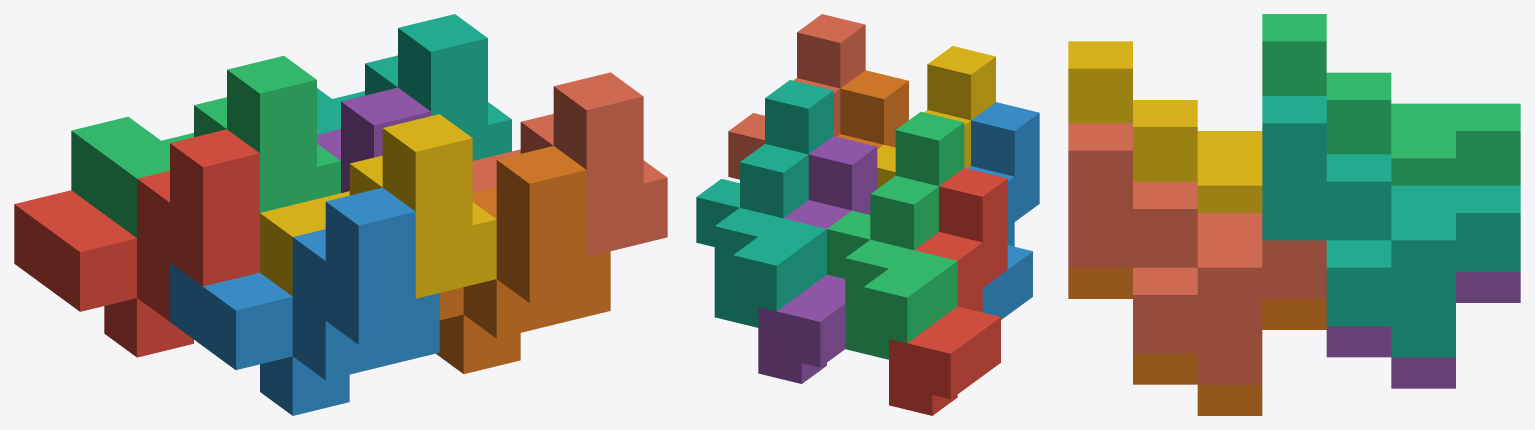
The model's file is tiling.obj.
3 renders of one model, left to right at view 1: azimuth 30°, elevation 25°; view 2: azimuth 150°, elevation 25°; view 3: azimuth 270°, elevation 25°, orthographic. The views are drawn at different scales.
Visible parts, largest first — view 1: copy_1_domain_2, copy_1_domain_1, copy_1_domain_6, copy_1_domain_3, copy_1_domain_4, copy_1_domain_8, copy_1_domain_7, copy_1_domain_5; view 2: copy_1_domain_7, copy_1_domain_3, copy_1_domain_1, copy_1_domain_5, copy_1_domain_2, copy_1_domain_8, copy_1_domain_4, copy_1_domain_6; view 3: copy_1_domain_7, copy_1_domain_8, copy_1_domain_3, copy_1_domain_4, copy_1_domain_6, copy_1_domain_5.
Part boxes in pixels (bbox=[...]): copy_1_domain_2: bbox=[170, 187, 439, 415]; copy_1_domain_1: bbox=[14, 129, 259, 357]; copy_1_domain_6: bbox=[436, 146, 610, 373]; copy_1_domain_3: bbox=[71, 56, 340, 237]; copy_1_domain_4: bbox=[260, 114, 496, 298]; copy_1_domain_8: bbox=[472, 72, 667, 256]; copy_1_domain_7: bbox=[317, 14, 511, 160]; copy_1_domain_5: bbox=[317, 87, 430, 192]; copy_1_domain_7: bbox=[696, 80, 833, 327]; copy_1_domain_3: bbox=[827, 112, 964, 359]; copy_1_domain_1: bbox=[889, 168, 1007, 415]; copy_1_domain_5: bbox=[758, 136, 877, 383]; copy_1_domain_2: bbox=[968, 102, 1039, 319]; copy_1_domain_8: bbox=[728, 14, 865, 179]; copy_1_domain_4: bbox=[877, 46, 995, 188]; copy_1_domain_6: bbox=[837, 70, 908, 149]; copy_1_domain_7: bbox=[1262, 96, 1520, 357]; copy_1_domain_8: bbox=[1068, 123, 1326, 384]; copy_1_domain_3: bbox=[1262, 14, 1520, 185]; copy_1_domain_4: bbox=[1068, 41, 1262, 212]; copy_1_domain_6: bbox=[1068, 267, 1326, 415]; copy_1_domain_5: bbox=[1326, 271, 1520, 388].
Size of the model in its own units: 8 by 5 by 7.
